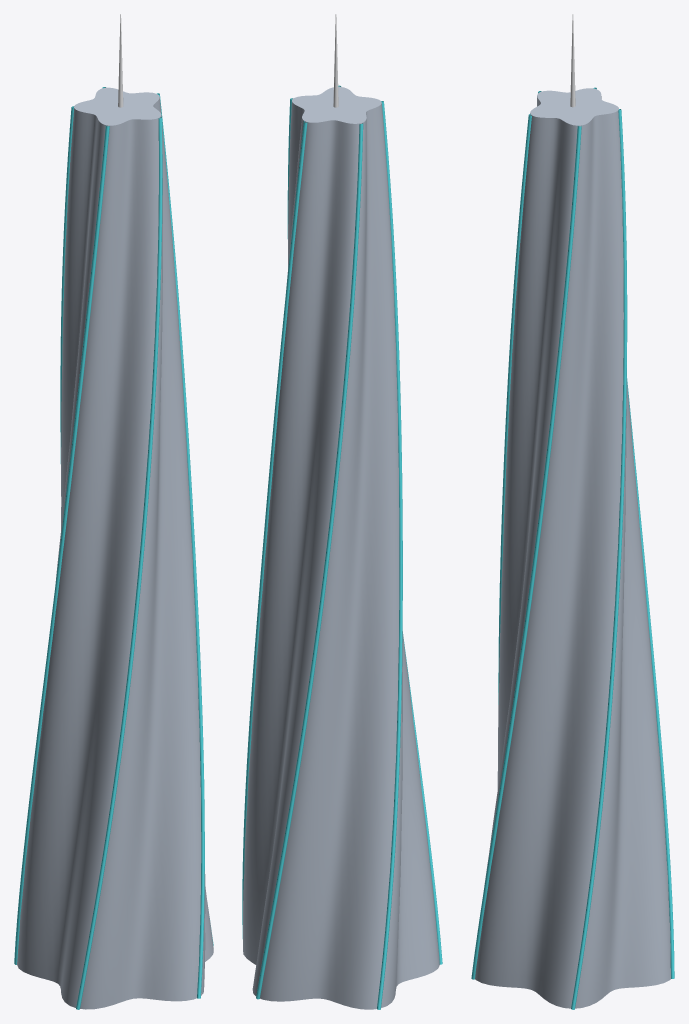
File: SM_NeomTower_Petal.fbx
3 renders of one model, left to right at view 1: azimuth 30°, elevation 25°; view 2: azimuth 150°, elevation 25°; view 3: azimuth 270°, elevation 25°, orthographic.
Visible parts, largest first — view 1: SM_NeomTower_Petal; view 2: SM_NeomTower_Petal; view 3: SM_NeomTower_Petal.
Boxes of the visible parts, left/top/right/bottom form: SM_NeomTower_Petal: left=14, top=14, right=213, bottom=1009; SM_NeomTower_Petal: left=242, top=14, right=442, bottom=1009; SM_NeomTower_Petal: left=471, top=14, right=674, bottom=1009.
Bounding box in the file's own units: 5770 × 31010 × 6005.
